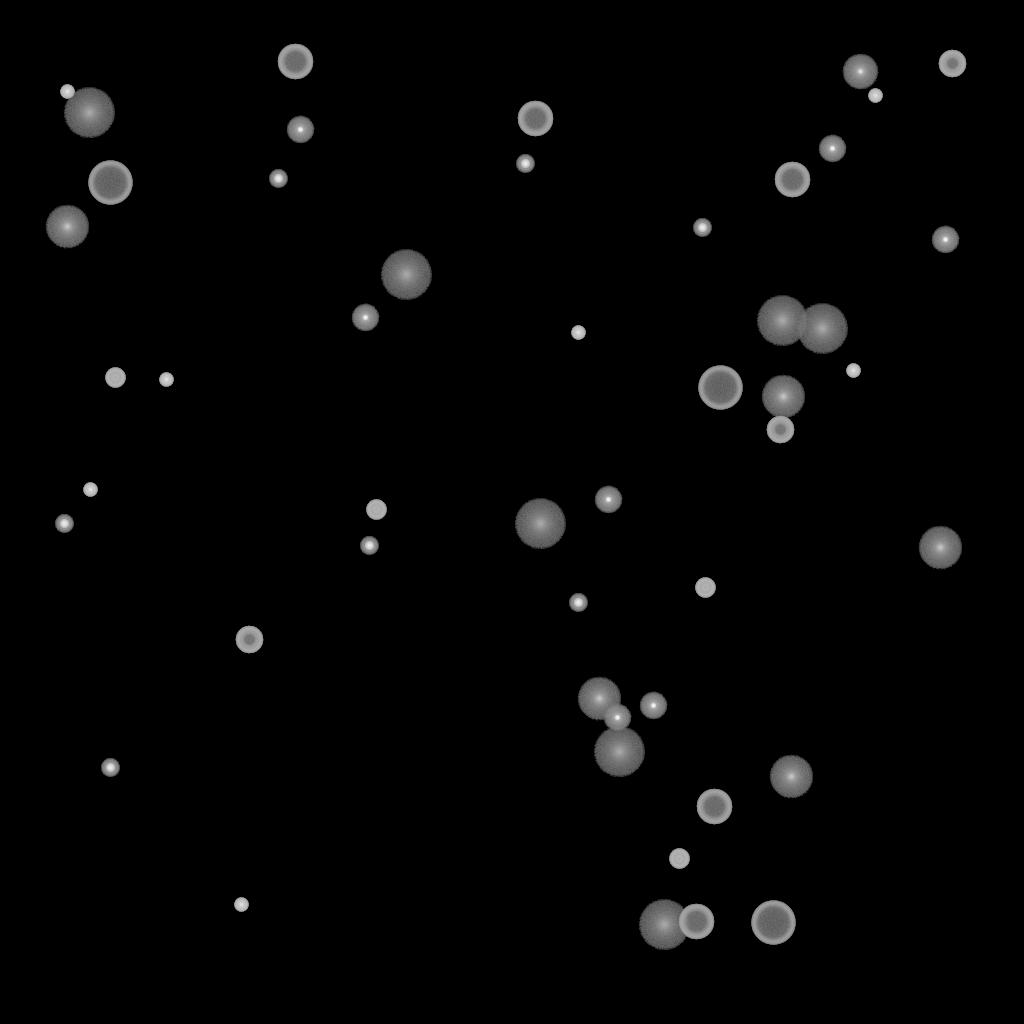depth:-10: (603, 704, 631, 732), (818, 135, 846, 163), (351, 304, 379, 332), (286, 116, 314, 144), (594, 486, 622, 514), (931, 226, 959, 254), (639, 692, 667, 720)
depth:-20: (101, 759, 119, 777), (516, 155, 534, 173), (569, 594, 587, 612), (360, 537, 378, 555), (55, 515, 73, 533), (269, 170, 287, 188), (693, 219, 711, 237)
depth:-30: (868, 89, 882, 103), (234, 898, 248, 912), (159, 373, 173, 387), (60, 85, 74, 99), (571, 326, 585, 340), (846, 364, 860, 378), (83, 483, 97, 497)
depth:-40: (695, 578, 715, 598), (366, 500, 386, 520), (669, 849, 689, 869), (105, 368, 125, 388)
depth:-50: (938, 50, 966, 78), (235, 626, 263, 654), (766, 416, 794, 444)
depth:-60: (277, 44, 313, 80), (696, 789, 732, 825), (774, 162, 810, 198), (678, 904, 714, 940), (517, 101, 553, 137)
depth:-70: (88, 161, 132, 205), (751, 901, 795, 945), (698, 366, 742, 410)
depth:0: (842, 54, 878, 90)
depth:10: (761, 375, 805, 419), (769, 755, 813, 799), (577, 677, 621, 721), (45, 205, 89, 249), (918, 526, 962, 570)
depth:20: (796, 304, 848, 354), (638, 900, 690, 950), (514, 499, 566, 549), (593, 727, 645, 777), (63, 88, 115, 138), (380, 250, 432, 300), (756, 296, 808, 346)
